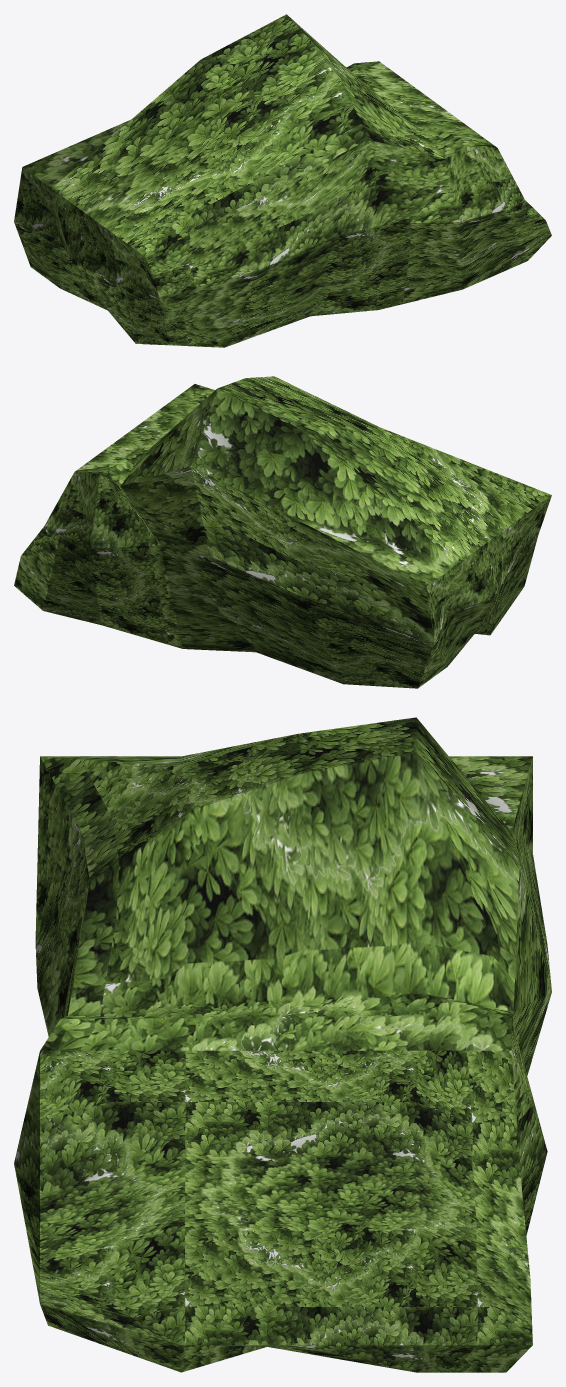
The model's file is Arbusto.fbx.
The picture shows the model from 3 angles, top to bottom: view 1: azimuth 30°, elevation 25°; view 2: azimuth 150°, elevation 25°; view 3: azimuth 270°, elevation 25°; orthographic projection. The views are drawn at different scales.
Parts seen in each view (by area): view 1: Cube; view 2: Cube; view 3: Cube.
Boxes of the visible parts, bbox=[...] form: Cube: bbox=[14, 14, 551, 347]; Cube: bbox=[14, 376, 551, 688]; Cube: bbox=[14, 717, 551, 1372].
Size of the model in its own units: 66.36 by 37.16 by 37.49.
1 material, 1 textured.
